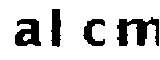I: (46, 5, 71, 54)
a: (12, 16, 42, 48)
c: (79, 15, 110, 48)
m: (114, 14, 160, 51)
